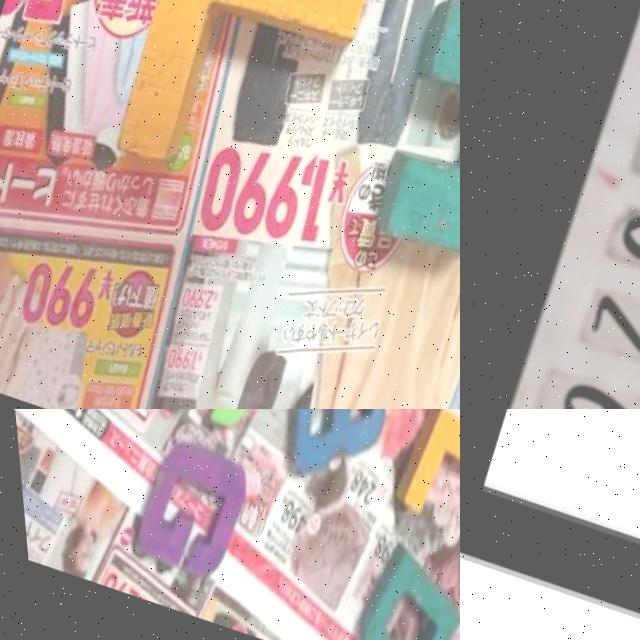2: (568, 283, 640, 375)
3: (597, 199, 640, 291)
6: (533, 367, 640, 409)
B: (251, 409, 404, 500)
D: (321, 549, 460, 640)
G: (113, 435, 253, 587)
K: (342, 0, 460, 315)
L: (92, 0, 392, 219), (369, 409, 460, 547)
